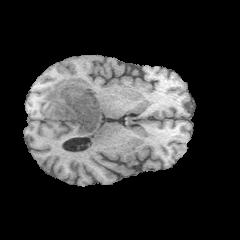glioma: (43, 76, 101, 137)
